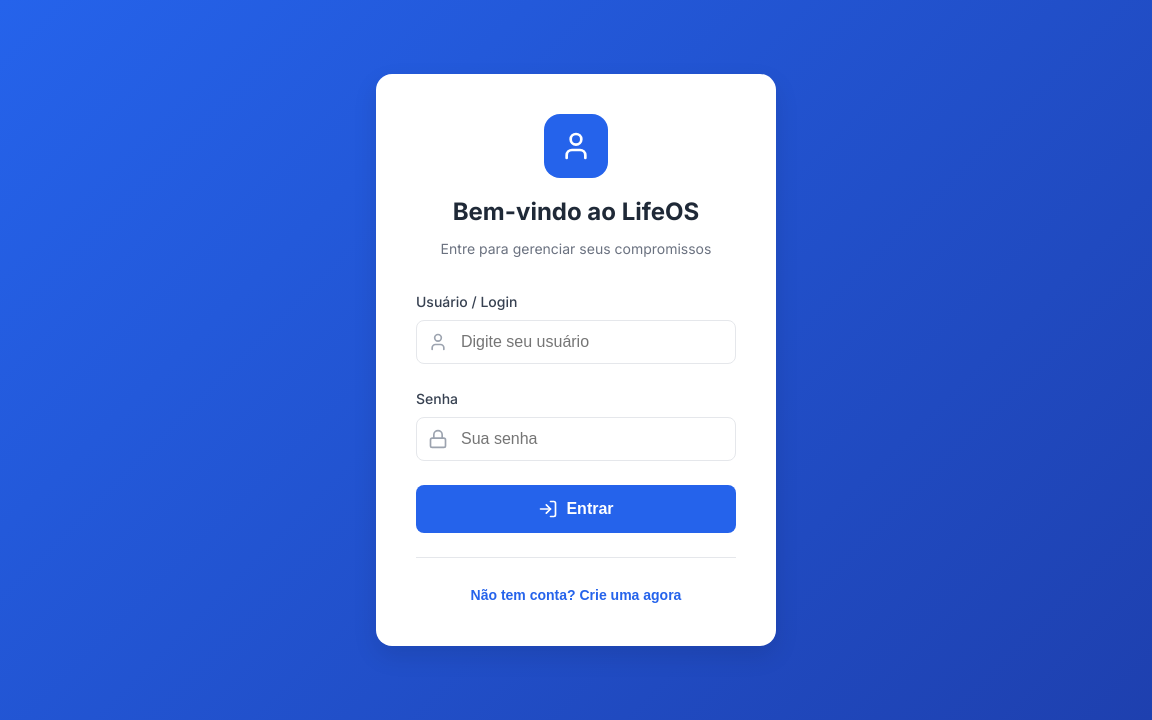
Scenario: Login Component › deve exibir sucesso após registrar
The image size is (1152, 720).
# Alternar para registro
Click the button "Não tem conta? Crie uma agora": (576, 595) [471,587,681,603]
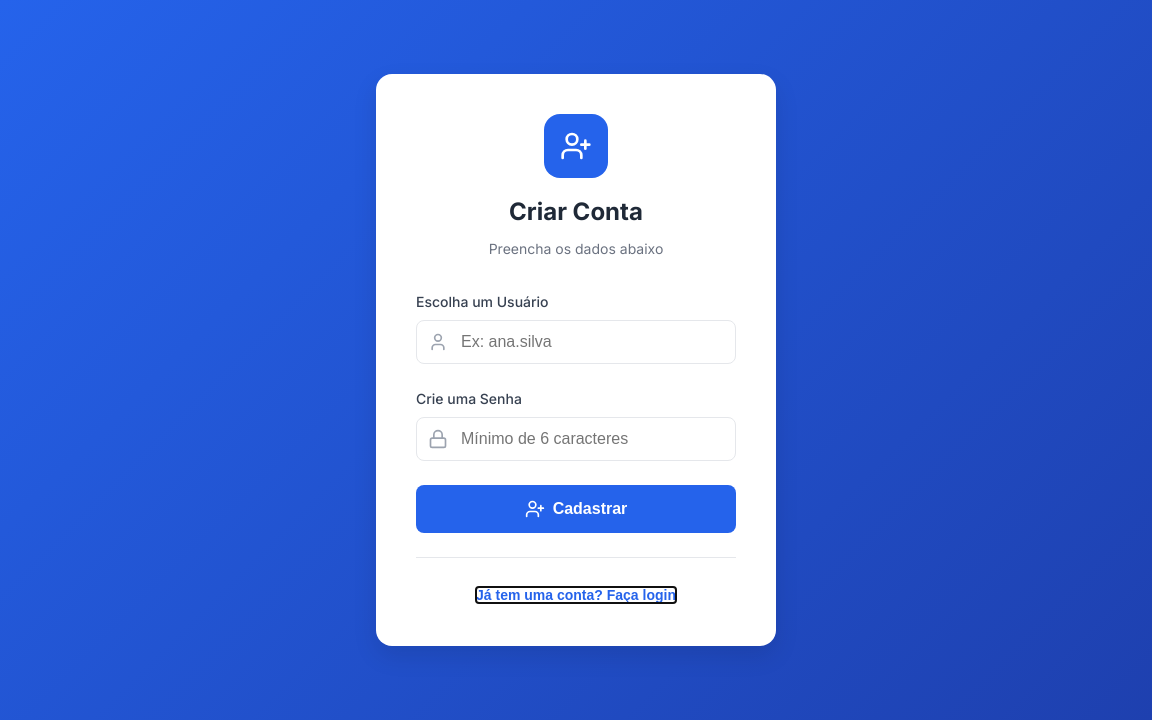
In the field with placeholder "Ex: ana.silva": (576, 342) [416,320,736,364], type "novousuario"
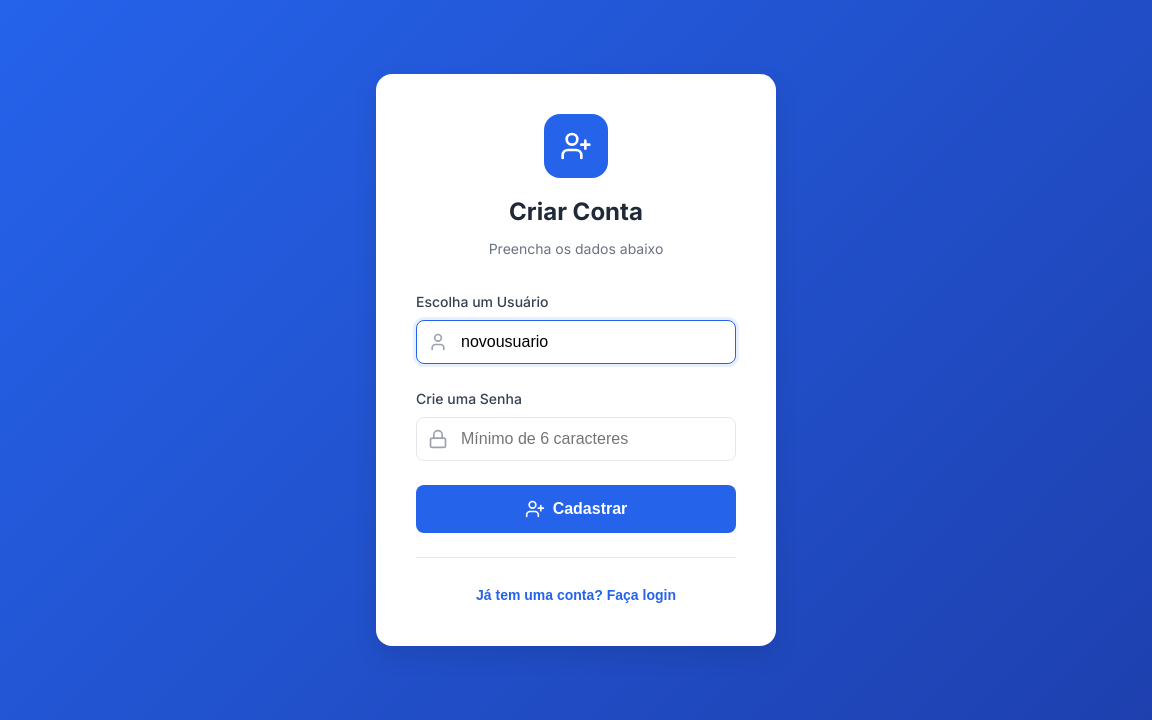
In the password field with placeholder "Mínimo de 6 caracteres": (576, 439) [416,417,736,461], type "senha123"
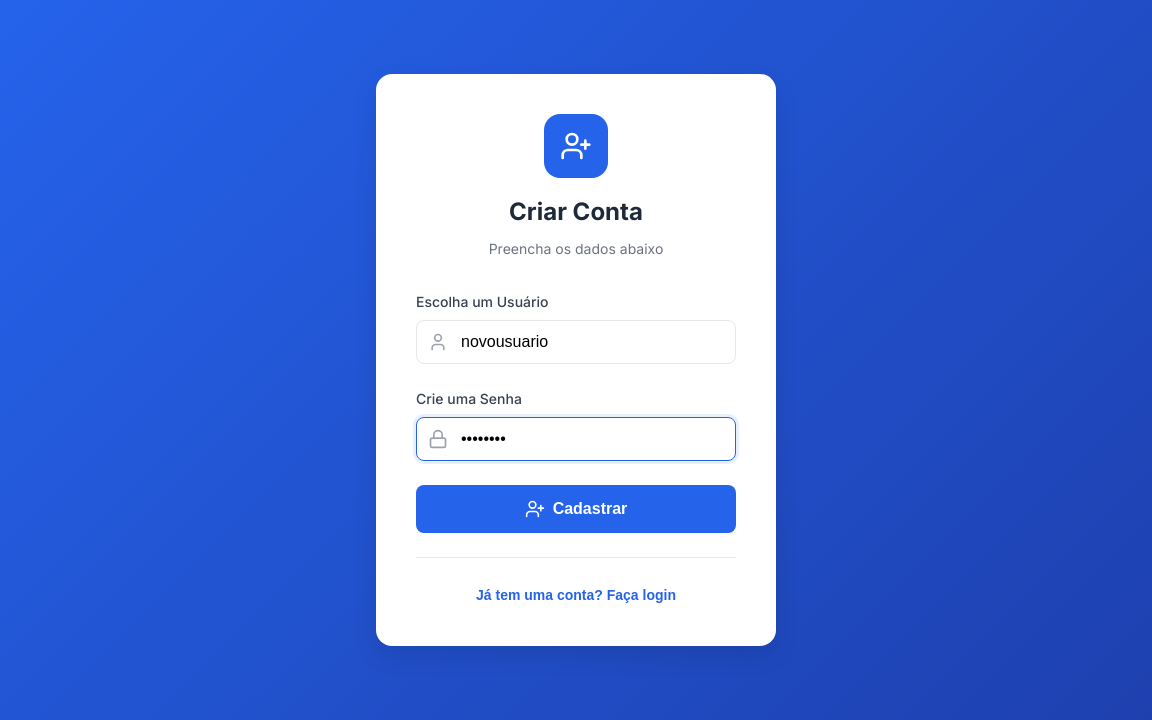
Click the button "Cadastrar": (576, 509) [416,485,736,533]
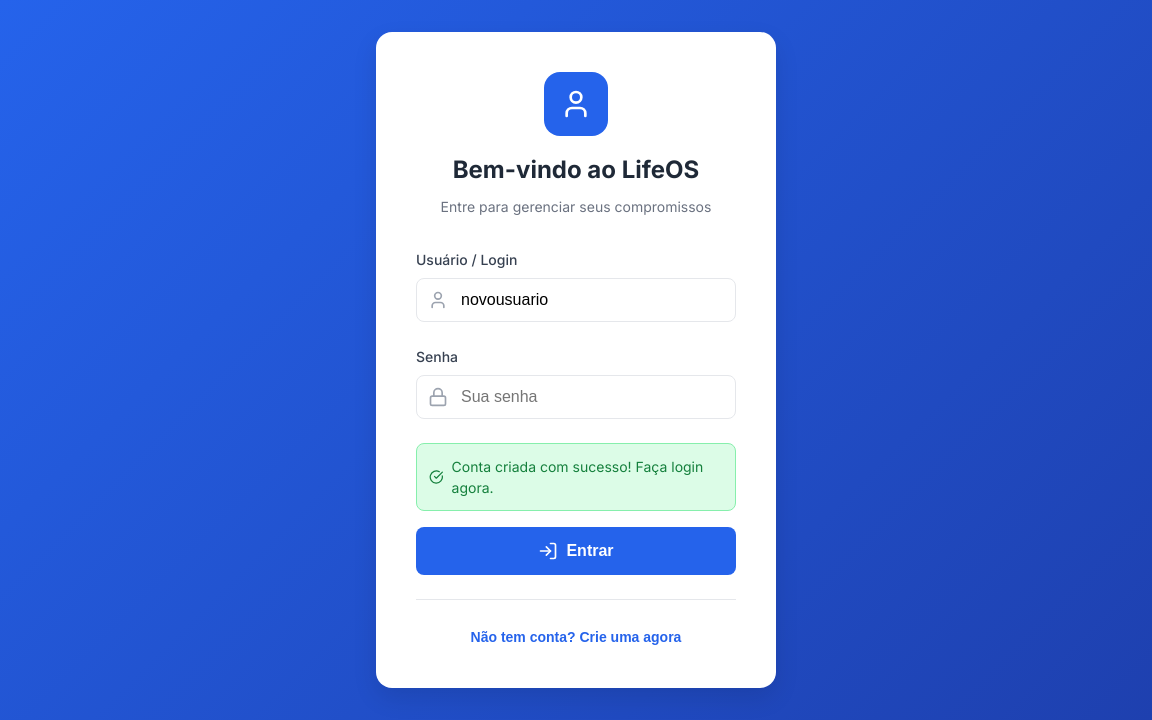
Now the text "Conta criada com sucesso! Faça login agora." is shown, box [452,456,723,498]
